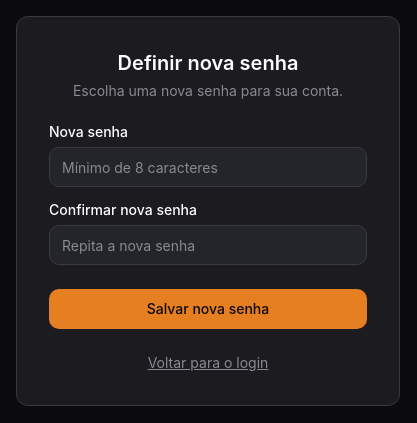
Test case: ResetPasswordPage › mostra a mensagem de sucesso e o link de login após trocar a senha
The image size is (417, 423).
Type "senha-nova-123" into the password field labelled "Nova senha" at (208, 167), box [49,147,367,187]
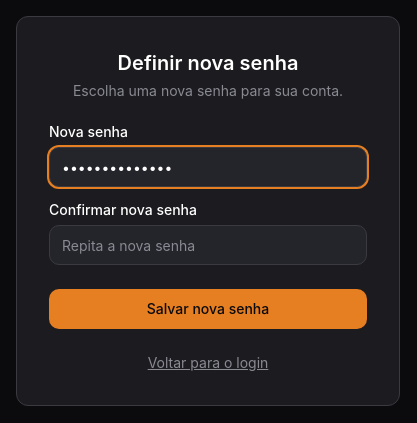
Type "senha-nova-123" into the password field labelled "Confirmar nova senha" at (208, 245), box [49,225,367,265]
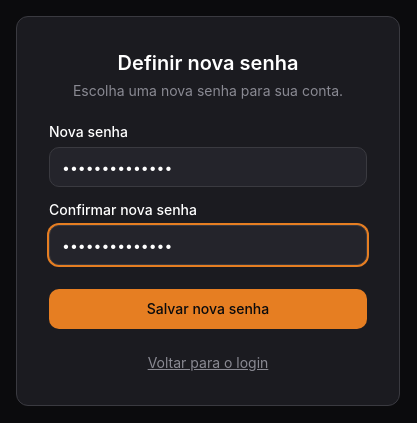
Click the button "Salvar nova senha" at (208, 309), box [49,289,367,329]
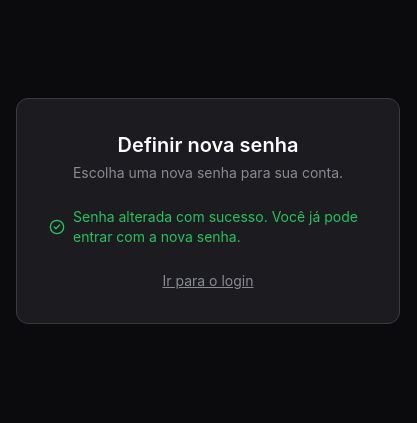
Result: the text "Senha alterada com sucesso. Você já pode entrar com a nova senha." is shown at [49,207,367,247]
